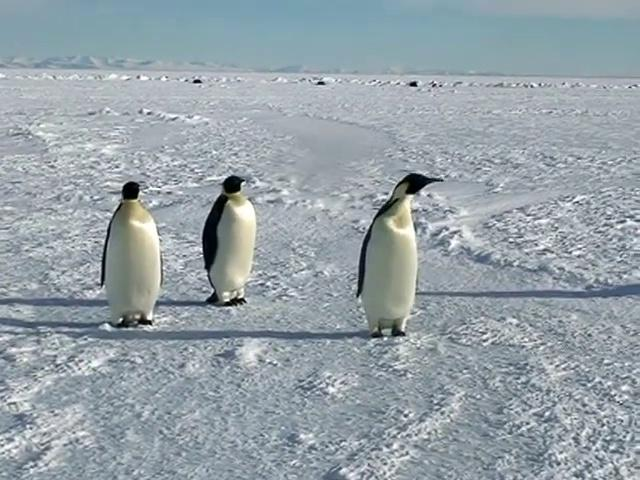animal: (357, 173, 442, 336)
